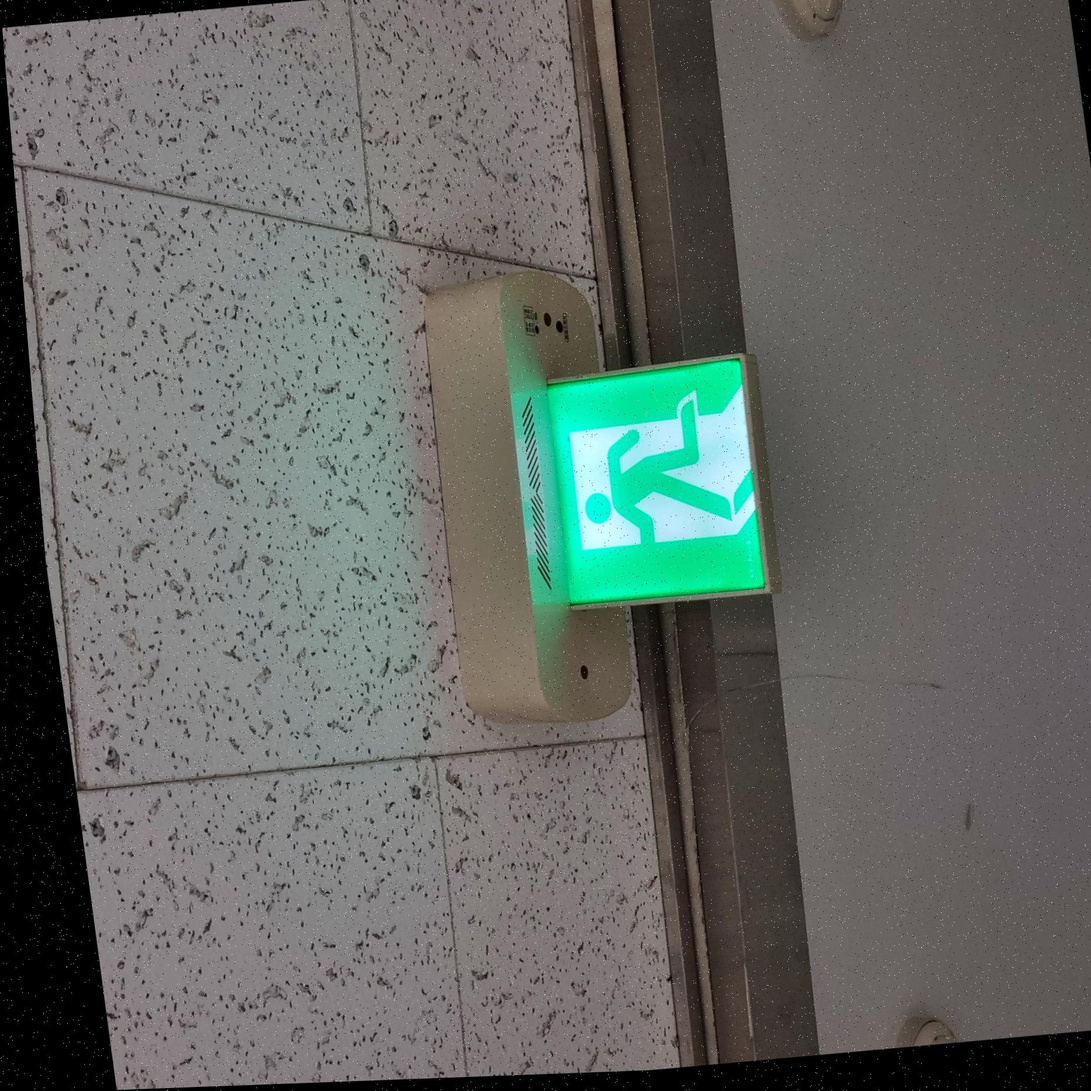emergency_exit: (533, 350, 779, 609)
